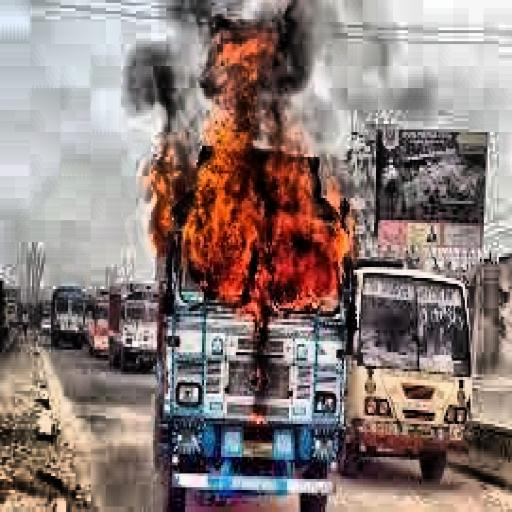fire: (140, 30, 357, 325)
